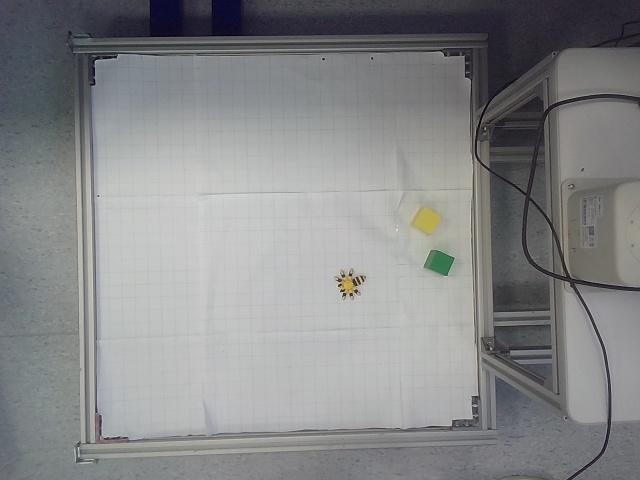frelon: (334, 268, 367, 301)
